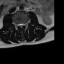CCS_normal: (20, 21, 22, 29)
LFS_normal: (24, 21, 25, 27)
LLS_normal: (22, 21, 24, 27)
RFS_normal: (16, 22, 18, 27)
RLS_normal: (18, 21, 20, 27)
